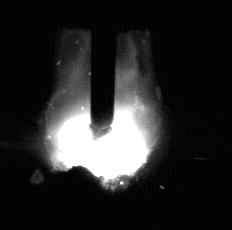arame: (91, 0, 116, 139)
poca: (46, 0, 162, 230)
